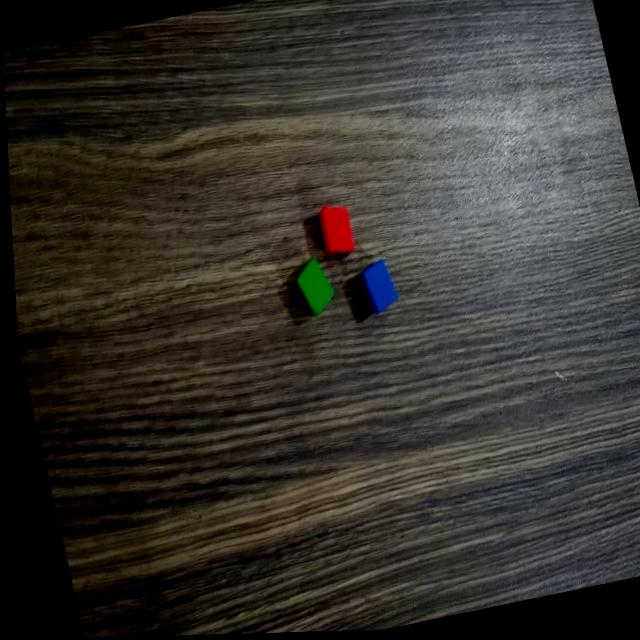cube: (351, 254, 402, 324), (284, 255, 337, 322), (312, 201, 356, 263)
